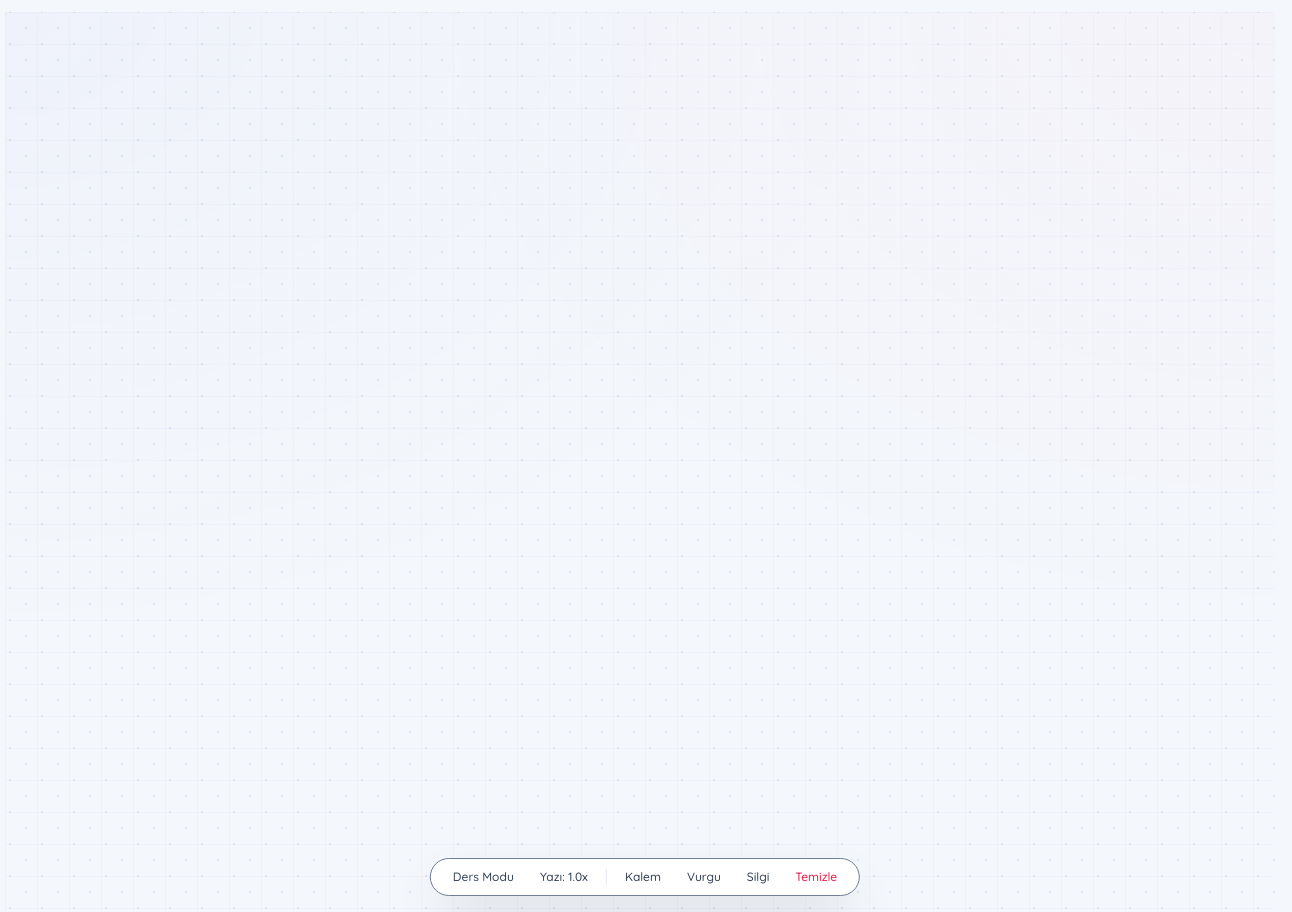
Test case: SmartBoardPresentationMode › cycles font scale when font button is clicked
What coordinates should you click on to do the following:
click the button "Yazı: 1.0x"
I would click on:
 (564, 877)
Its box is x1=530 y1=865 x2=598 y2=889.
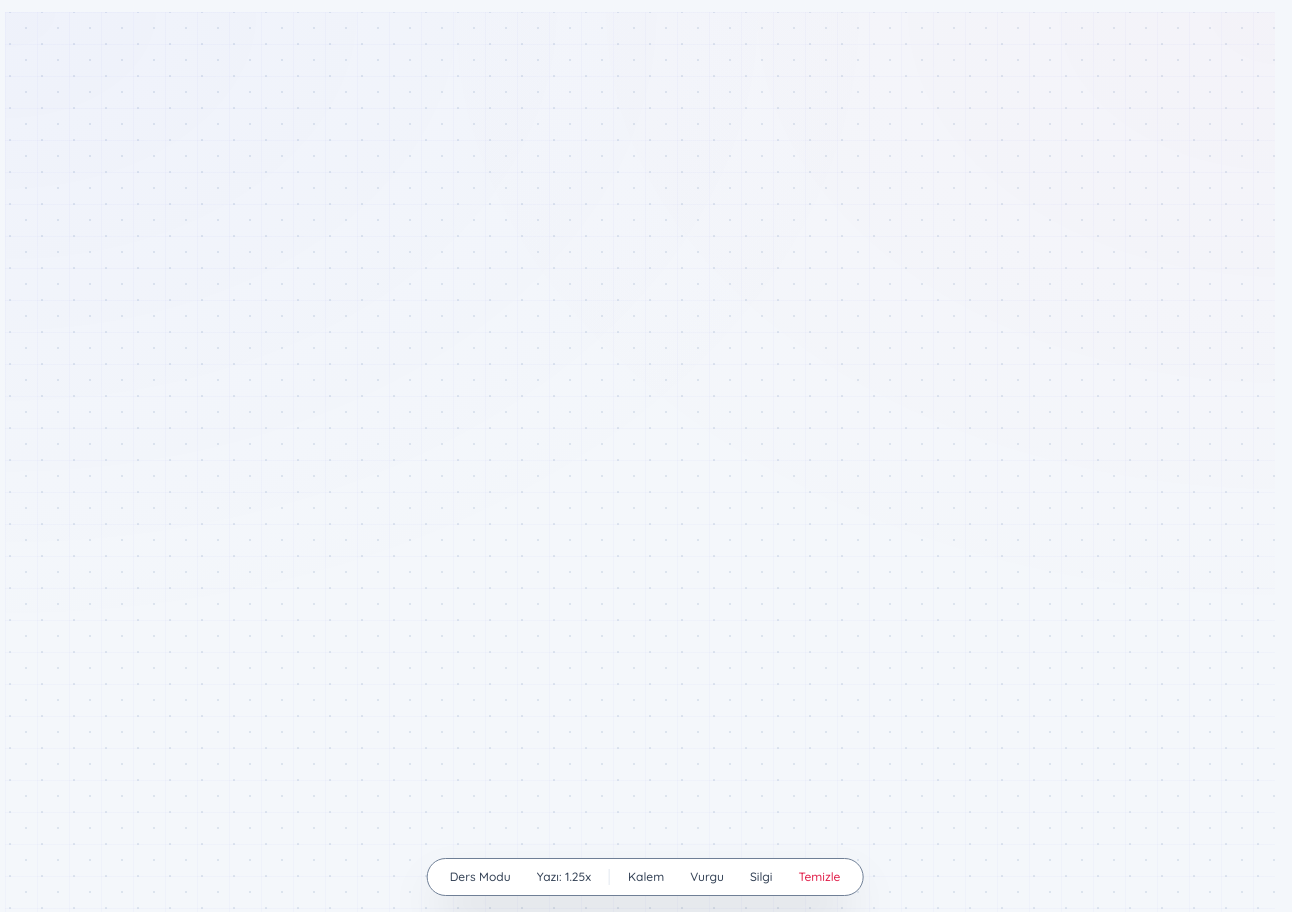
Result: the button "Yazı: 1.25x" is shown
What coordinates should you click on to do the following:
click the button "Yazı: 1.25x"
I would click on:
 (564, 877)
Its box is x1=527 y1=865 x2=601 y2=889.
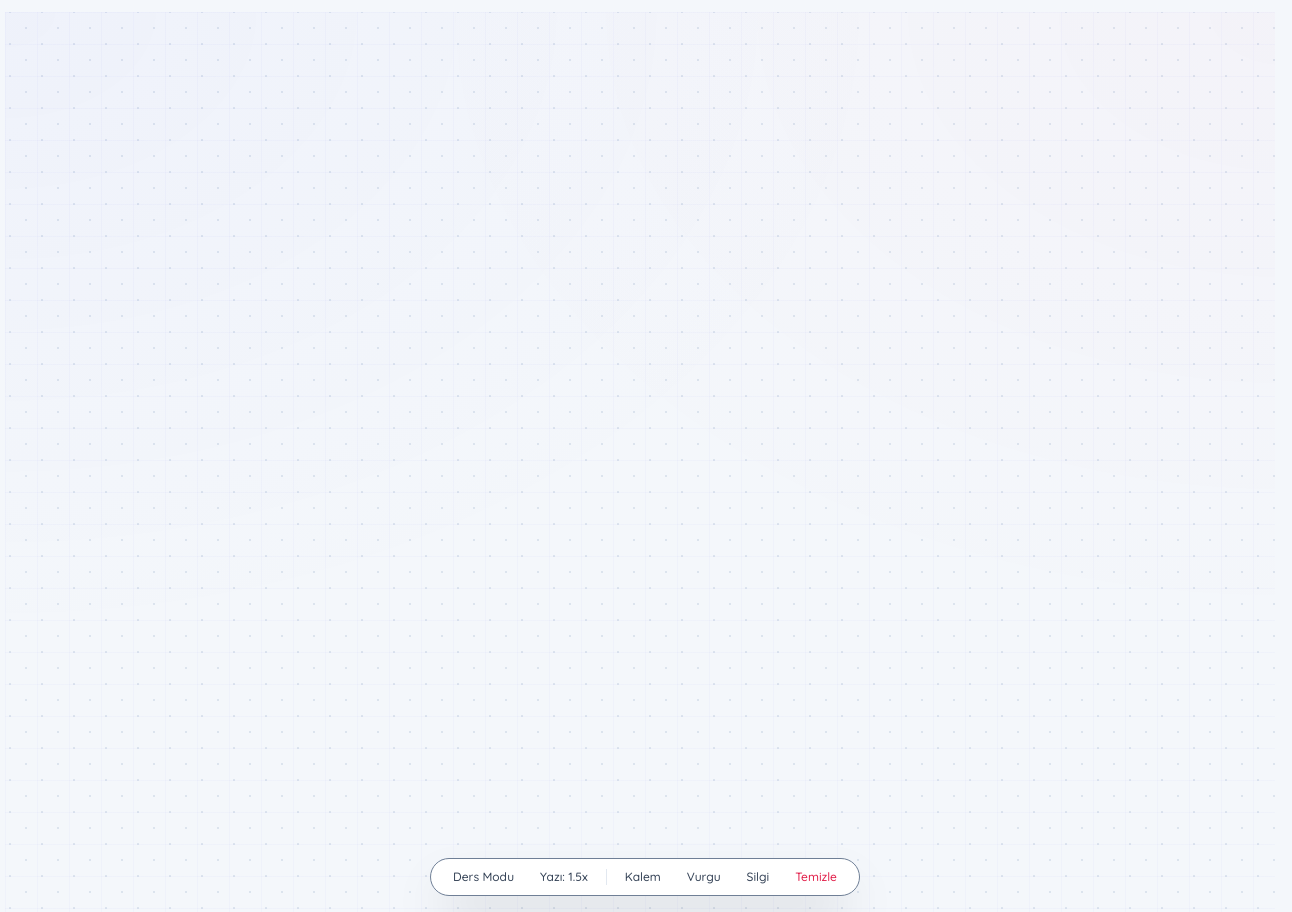
Result: the button "Yazı: 1.5x" is shown
What coordinates should you click on to do the following:
click the button "Yazı: 1.5x"
I would click on:
 (564, 877)
Its box is x1=530 y1=865 x2=598 y2=889.
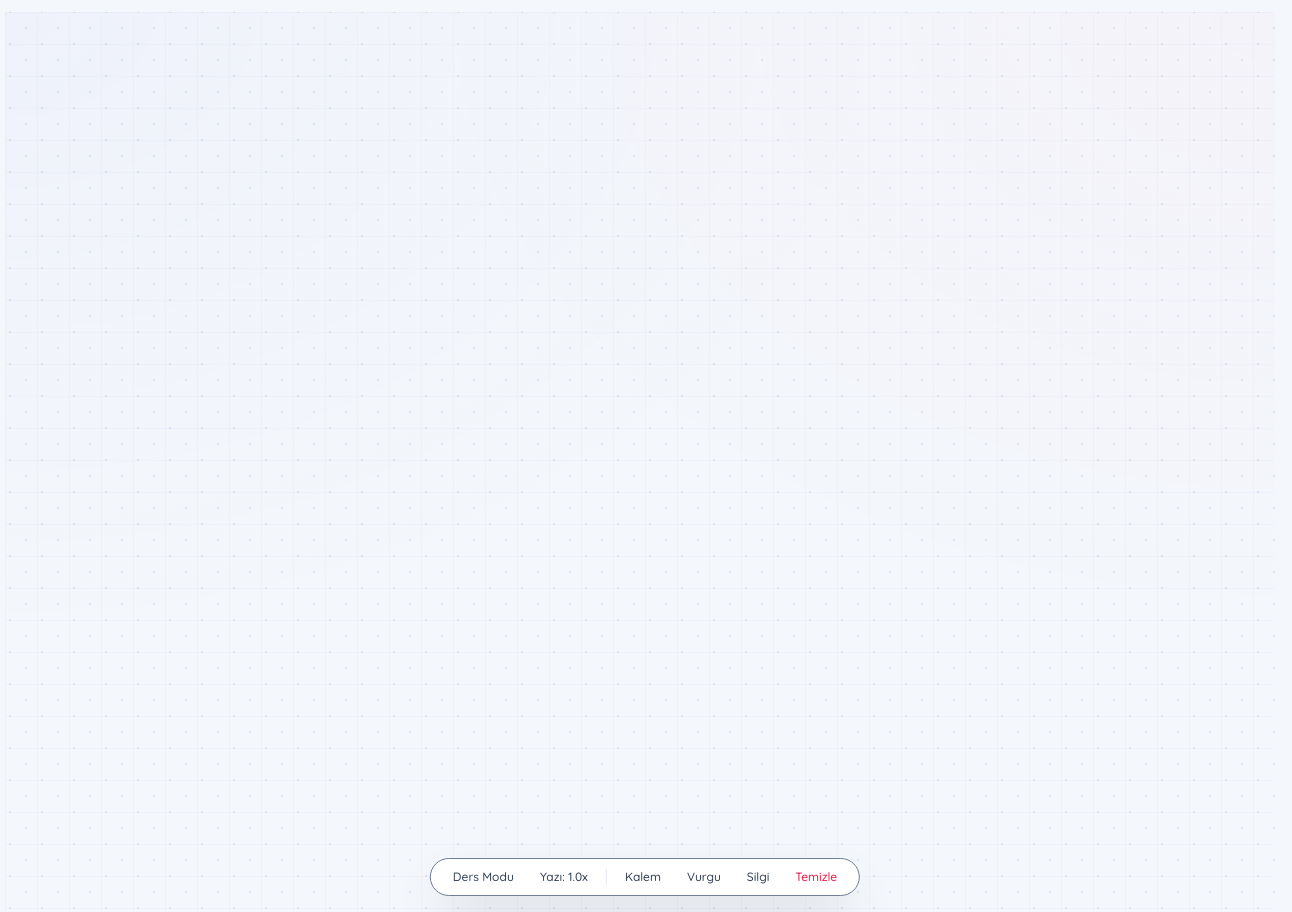
Result: the button "Yazı: 1.0x" is shown at x1=530 y1=865 x2=598 y2=889
